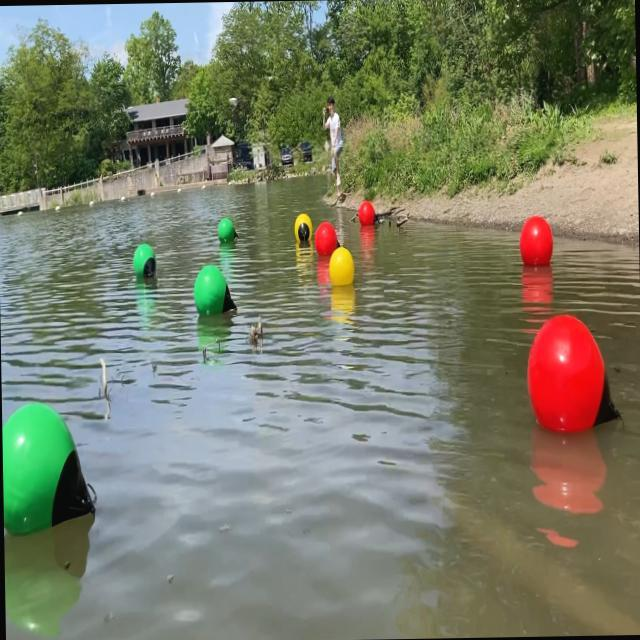buoy: (528, 310, 622, 435), (192, 262, 236, 320), (518, 212, 552, 266), (329, 247, 354, 287), (132, 242, 157, 279), (315, 221, 340, 257), (218, 217, 238, 244), (294, 212, 312, 242), (357, 200, 378, 224)
